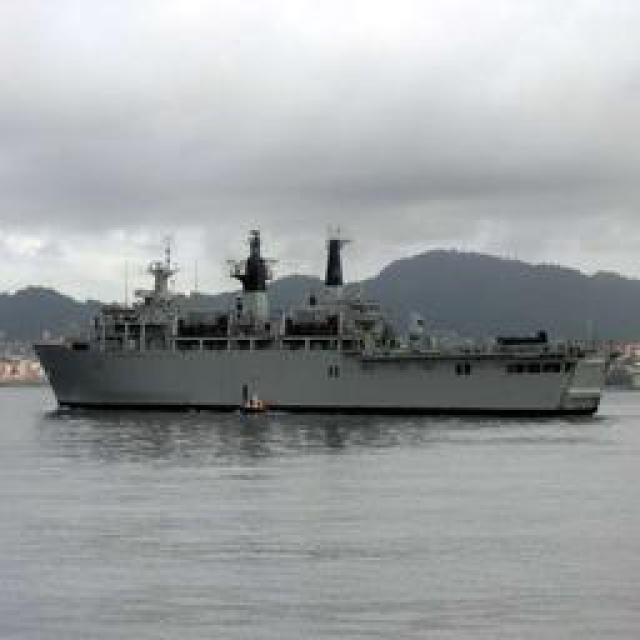Ship: (12, 224, 615, 419)
